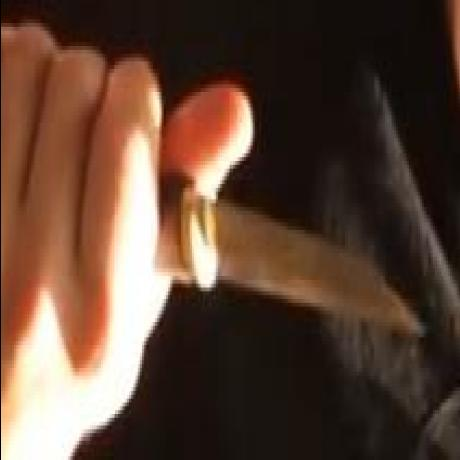weapon: (145, 166, 421, 332)
